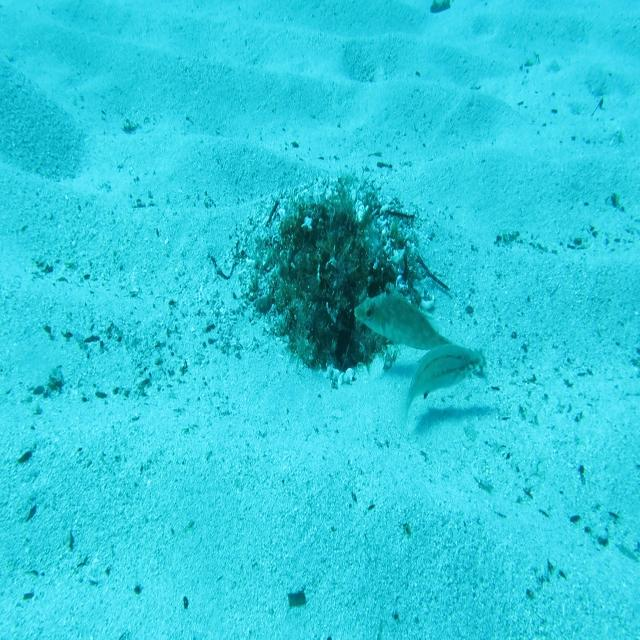MAF: (353, 278, 456, 348)
core_nest: (305, 211, 352, 269)
female: (394, 341, 484, 438)
nest: (216, 155, 438, 409)
vegetation: (428, 0, 455, 18), (288, 587, 308, 610)
